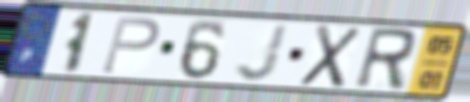1: (65, 10, 98, 77)
6: (178, 18, 228, 82)
J: (233, 22, 292, 84)
P: (98, 15, 163, 76)
R: (351, 25, 420, 93)
X: (296, 22, 365, 91)
